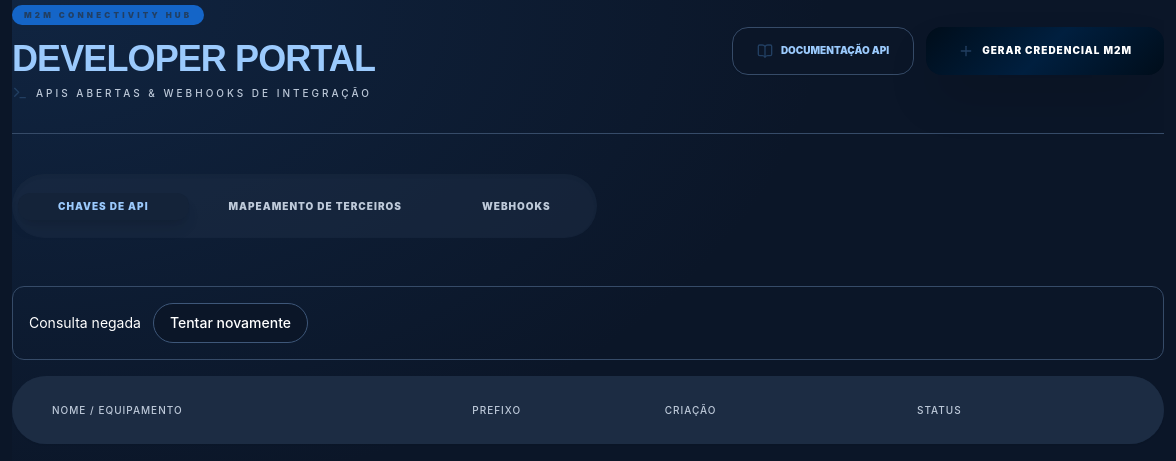
Test: developer credentials interface › shows a query failure and retries through refresh
Click the button "Tentar novamente" at [230, 323], box x1=153 y1=303 x2=308 y2=343
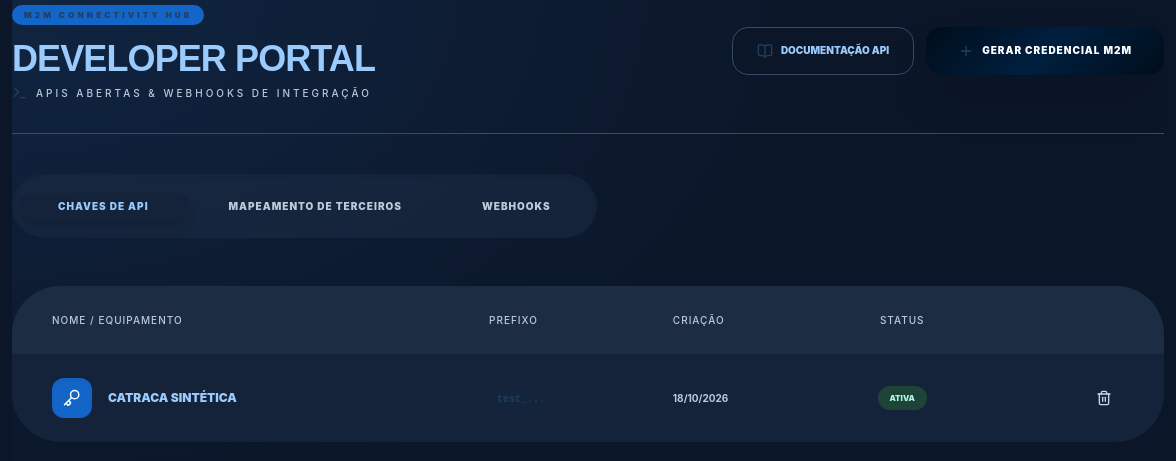
Now the text "Catraca sintética" is shown, box x1=108 y1=390 x2=237 y2=406
